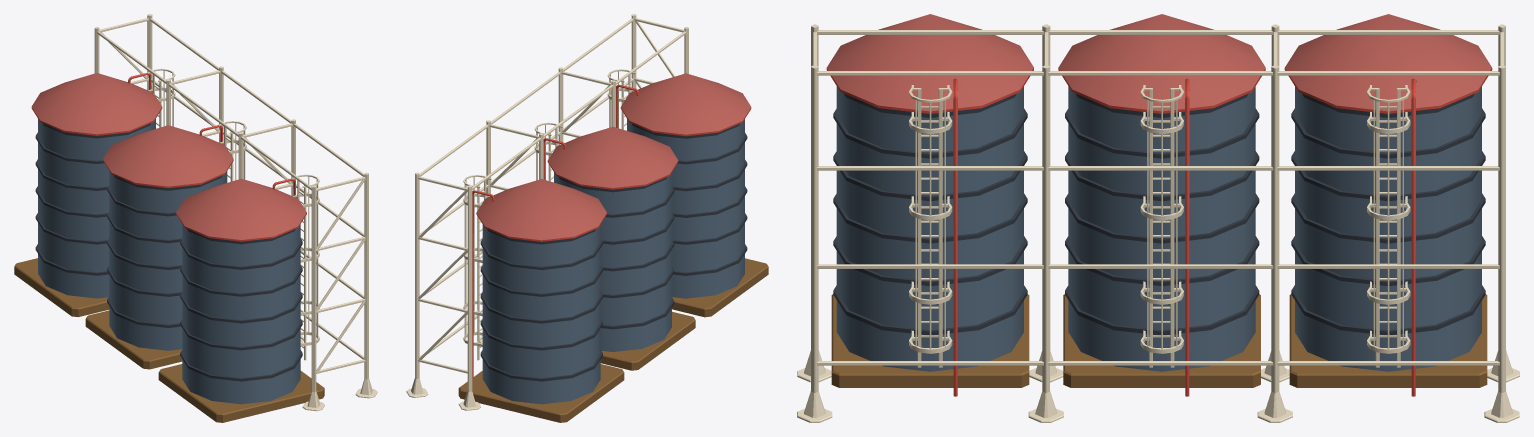
The model's file is farmstractures_20.gltf.
The picture shows the model from 3 angles, left to right: view 1: azimuth 30°, elevation 25°; view 2: azimuth 150°, elevation 25°; view 3: azimuth 270°, elevation 25°; orthographic projection. The views are drawn at different scales.
Visible parts, largest first — view 1: body, blades; view 2: body, blades; view 3: body, blades.
Part boxes in pixels (<box>): body: <box>14,14,377,422</box>; blades: <box>94,15,368,392</box>; body: <box>406,14,768,422</box>; blades: <box>415,15,688,391</box>; body: <box>797,14,1519,422</box>; blades: <box>811,26,1505,392</box>.
Bounding box in the file's own units: 4.92 × 6.7 × 12.54.
Materials: 1 (1 with a texture image).
